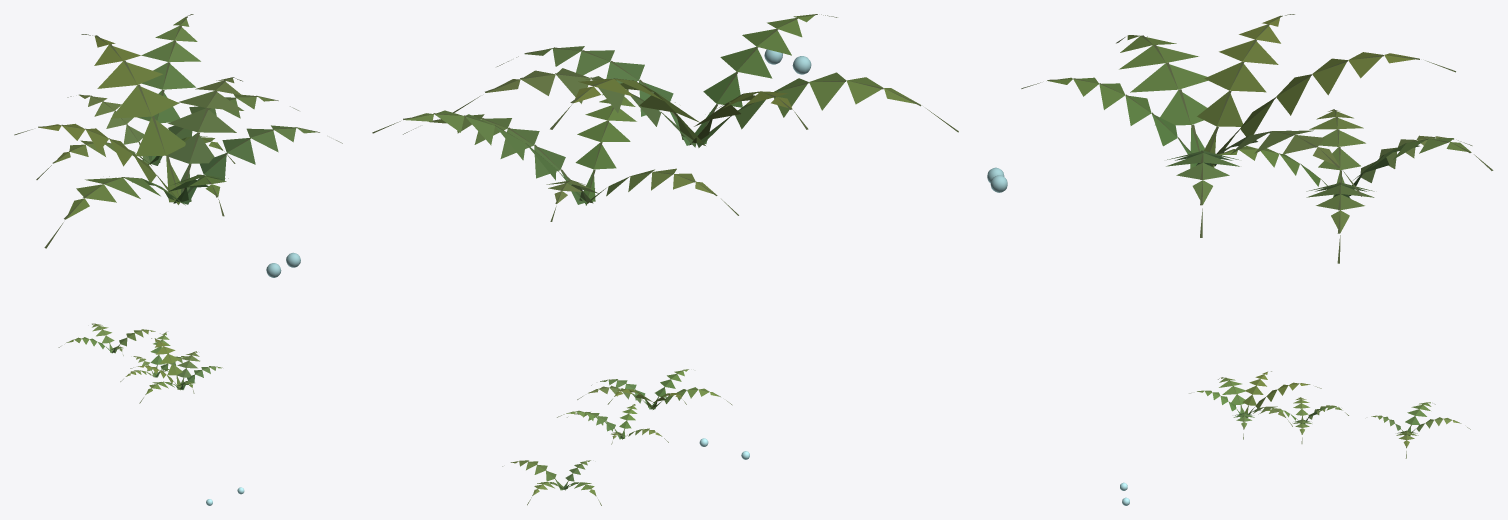
Rendered from thrall-extras.glb.
3 views of the same model, side by side, from view 1: azimuth 30°, elevation 25°; view 2: azimuth 150°, elevation 25°; view 3: azimuth 270°, elevation 25° (orthographic). The views are drawn at different scales.
Parts seen in each view (by area): view 1: elk_thrall, boar_thrall; view 2: elk_thrall, boar_thrall; view 3: elk_thrall, boar_thrall.
Part boxes in pixels (bbox=[...]): elk_thrall: bbox=[14, 14, 342, 277]; boar_thrall: bbox=[58, 323, 244, 505]; elk_thrall: bbox=[372, 14, 958, 221]; boar_thrall: bbox=[502, 369, 749, 505]; elk_thrall: bbox=[987, 14, 1493, 263]; boar_thrall: bbox=[1120, 371, 1470, 505].
Size of the model in its own units: 2.27 by 2.34 by 2.43.
